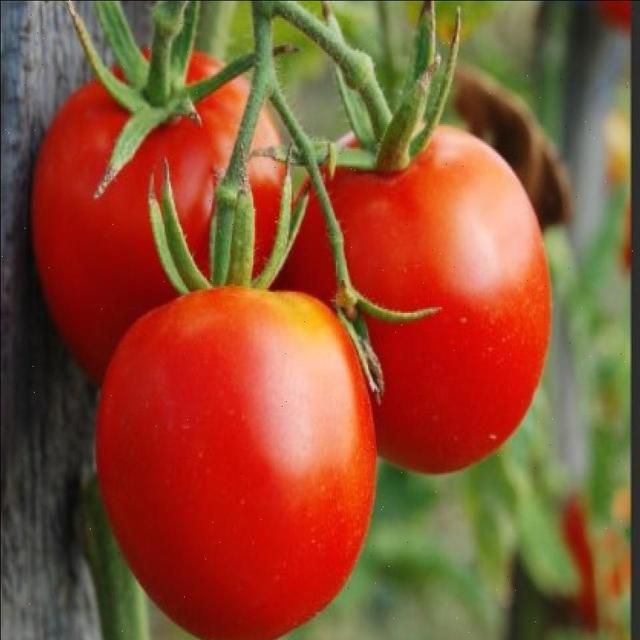Healthy Fruit: (113, 136, 289, 309)
